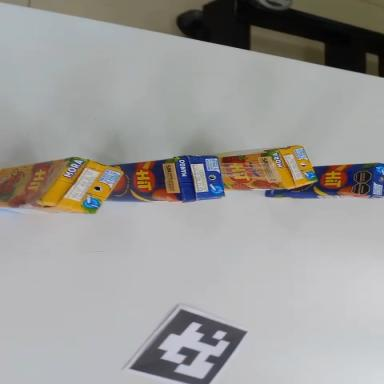HIT-MANGO: (105, 151, 223, 213), (265, 164, 383, 198)
HIT-MORA: (0, 156, 122, 213), (217, 145, 317, 191)
cara_F: (0, 157, 80, 208), (265, 163, 374, 196), (105, 158, 185, 201), (219, 153, 287, 190)
